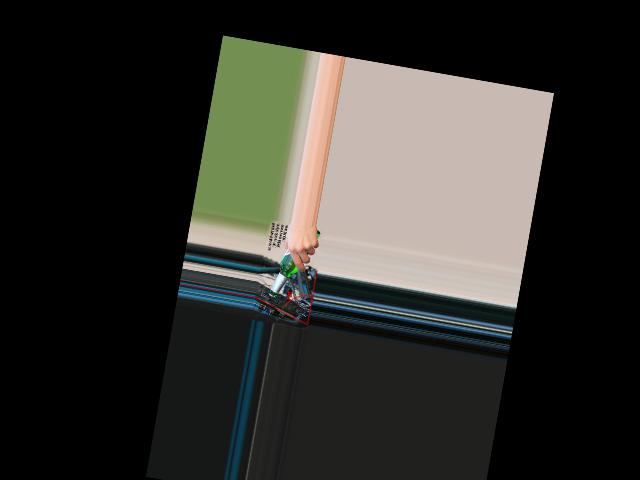beer: (268, 224, 321, 304)
